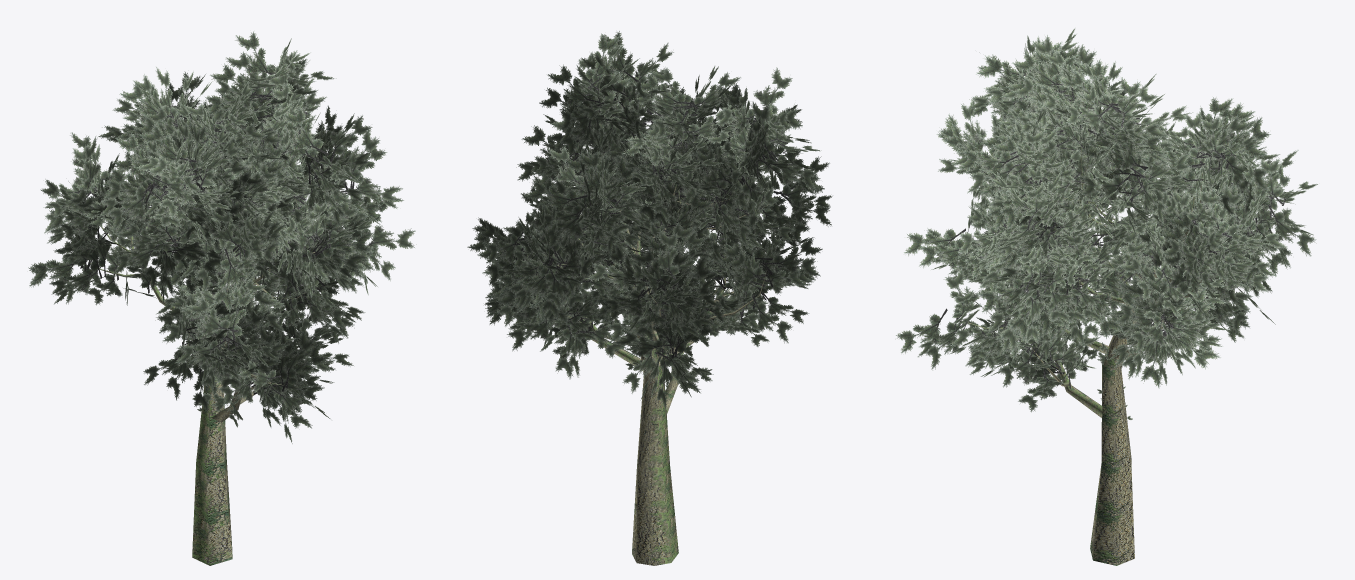
The model's file is tree2.obj.
3 views of the same model, side by side, from view 1: azimuth 30°, elevation 25°; view 2: azimuth 150°, elevation 25°; view 3: azimuth 270°, elevation 25° (orthographic). The views are drawn at different scales.
Visible parts, largest first — view 1: trunk; view 2: trunk; view 3: trunk.
Part boxes in pixels (x1,y1,x2,y2): trunk: [28, 31, 416, 565]; trunk: [467, 31, 832, 565]; trunk: [895, 28, 1317, 565].
Size of the model in its own units: 16.05 by 25.35 by 19.67.
